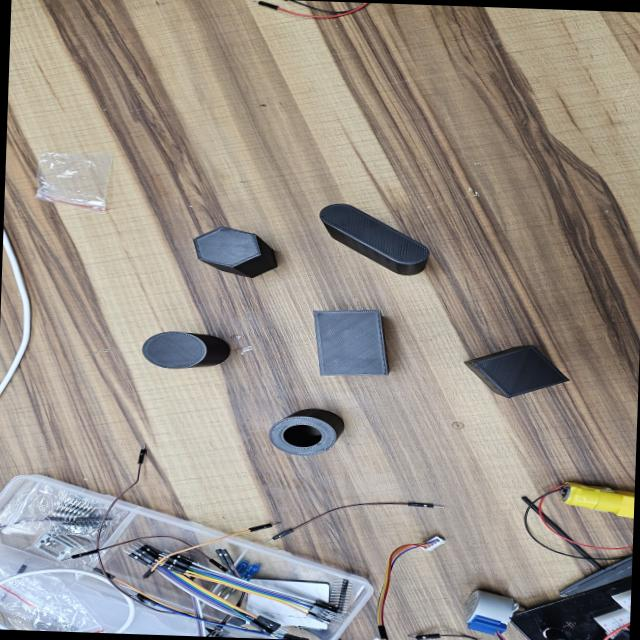circle: (141, 329, 208, 368)
hexagon: (186, 222, 267, 269)
oval: (314, 197, 434, 267)
rectangle: (314, 308, 387, 373)
ring: (269, 415, 338, 455)
square: (474, 345, 568, 395)
